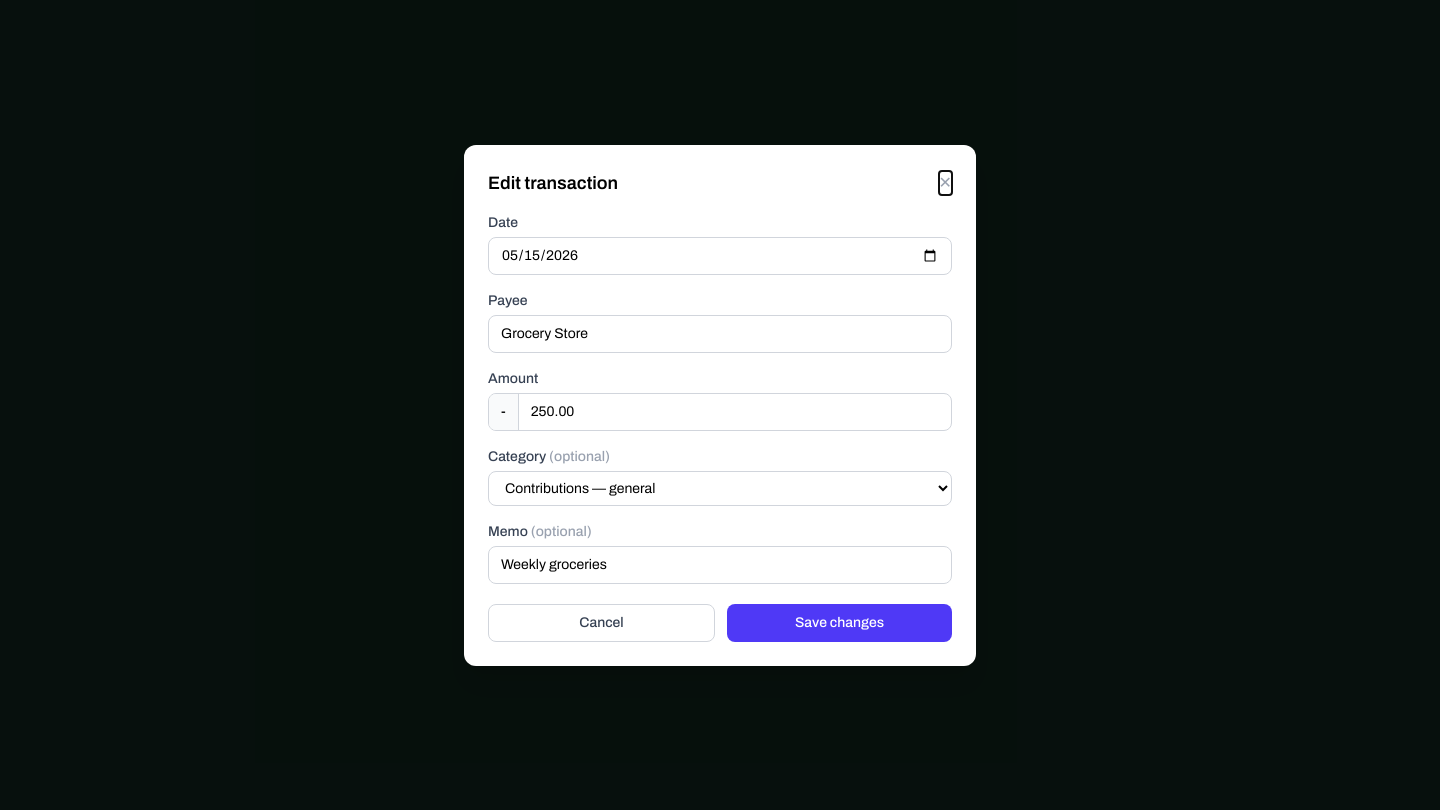
EditTransactionModal › shows generic error for non-ApiError exceptions
Click the button "Save changes". click: click(840, 622)
box: [727, 604, 952, 642]
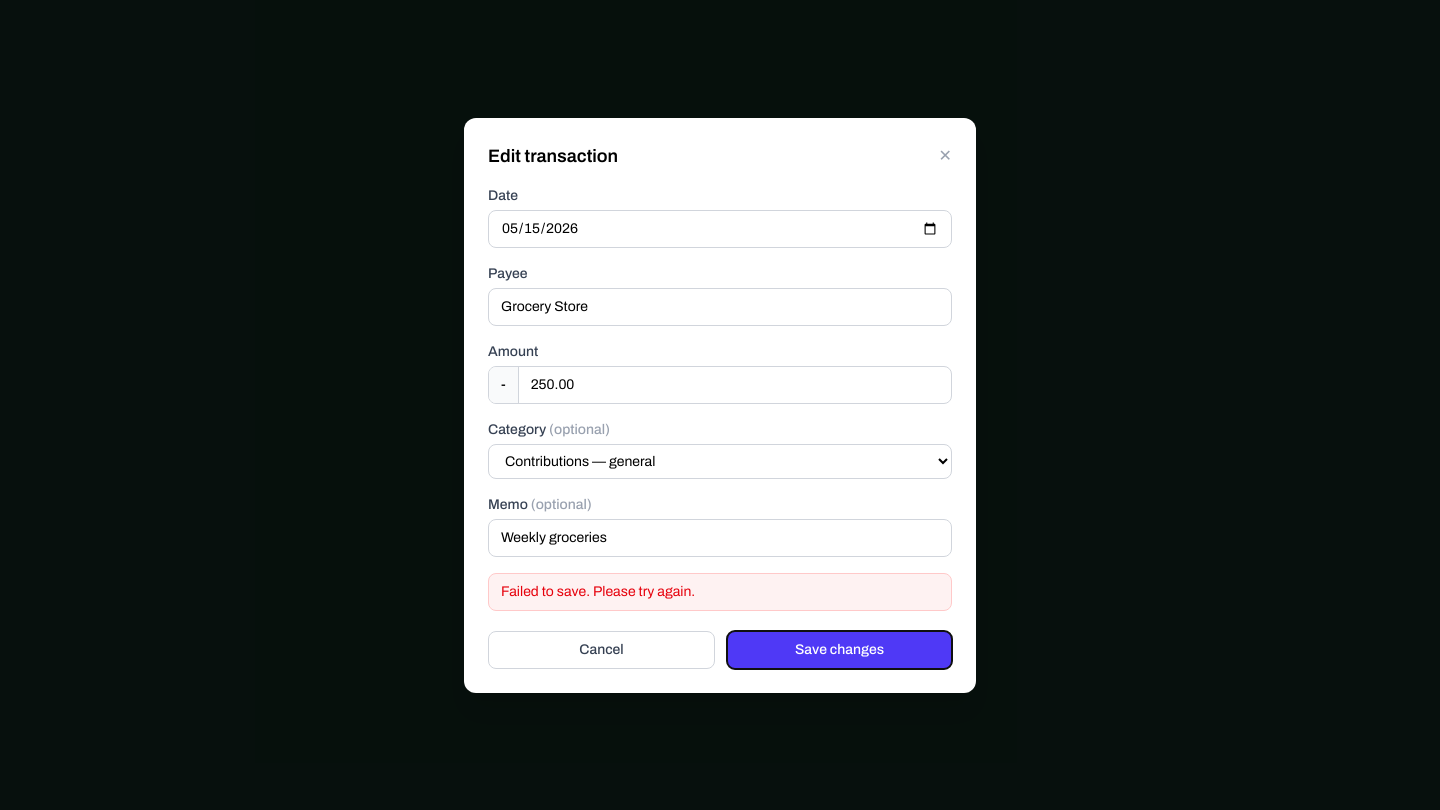
Now the text "Failed to save. Please try again." is shown, box [488, 572, 952, 610]
